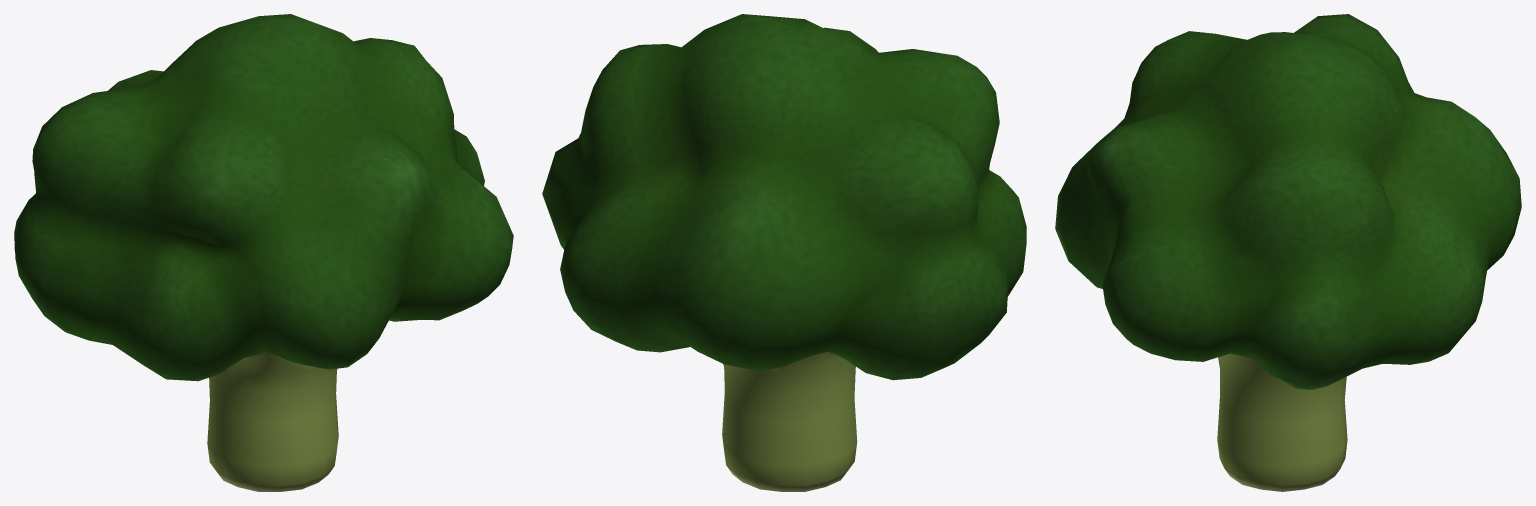
Rendered from broccoli_green.fbx.
3 renders of one model, left to right at view 1: azimuth 30°, elevation 25°; view 2: azimuth 150°, elevation 25°; view 3: azimuth 270°, elevation 25°, orthographic. The views are drawn at different scales.
Visible parts, largest first — view 1: broccoli_green; view 2: broccoli_green; view 3: broccoli_green.
Part boxes in pixels (<box>): broccoli_green: <box>14,14,513,491</box>; broccoli_green: <box>542,14,1026,491</box>; broccoli_green: <box>1055,14,1521,491</box>.
Size of the model in its own units: 1.06 by 0.9966 by 0.9699.
